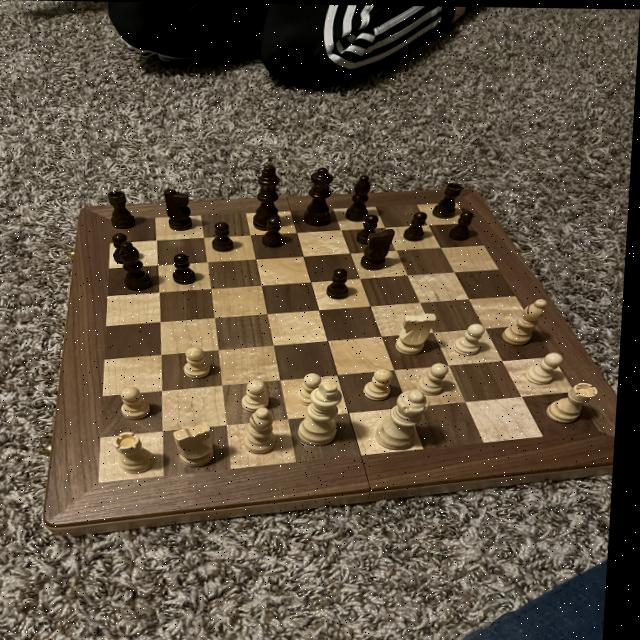bishop: (119, 237, 161, 293), (340, 171, 381, 222)
black-bishop: (250, 158, 295, 231)
black-king: (162, 184, 203, 234), (359, 225, 401, 273)
black-knight: (169, 250, 207, 287), (110, 228, 142, 265), (326, 265, 358, 300), (357, 209, 387, 246), (209, 221, 243, 253), (450, 208, 481, 242), (404, 208, 433, 244), (263, 216, 293, 248)
black-pawn: (304, 165, 344, 228)
black-queen: (104, 188, 145, 230), (430, 179, 467, 219)
black-rook: (503, 295, 553, 345), (245, 406, 288, 453)
white-bishop: (306, 376, 354, 449)
white-king: (175, 419, 227, 471), (397, 310, 440, 353)
white-knight: (452, 319, 497, 356), (116, 384, 159, 421), (530, 348, 568, 384), (243, 375, 278, 413), (422, 363, 458, 395), (185, 346, 217, 381), (366, 366, 399, 399), (302, 371, 330, 406)
white-pawn: (377, 387, 440, 455)
white-queen: (110, 425, 165, 476), (549, 380, 604, 422)
